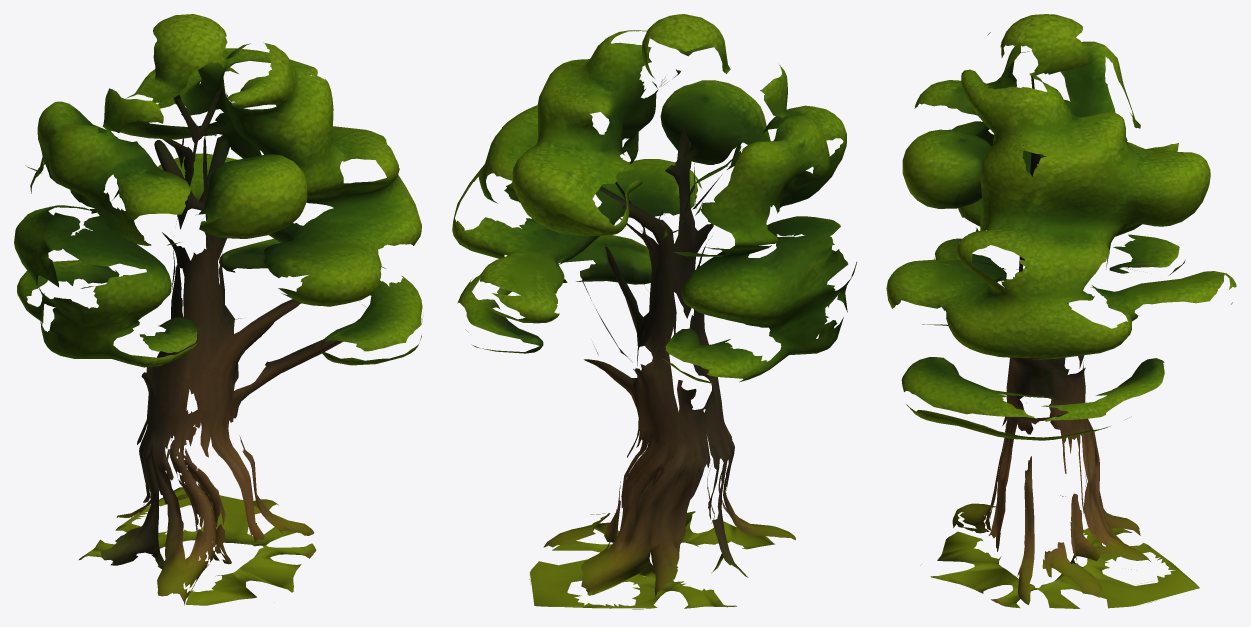
The model's file is oak_github.glb.
3 renders of one model, left to right at view 1: azimuth 30°, elevation 25°; view 2: azimuth 150°, elevation 25°; view 3: azimuth 270°, elevation 25°, orthographic.
Parts seen in each view (by area): view 1: oak_github; view 2: oak_github; view 3: oak_github.
Part boxes in pixels (x1,y1,x2,y2): oak_github: [14, 14, 422, 605]; oak_github: [452, 14, 856, 609]; oak_github: [886, 14, 1236, 608].
Size of the model in its own units: 0.5906 by 0.847 by 0.4999.
1 material, 1 textured.
